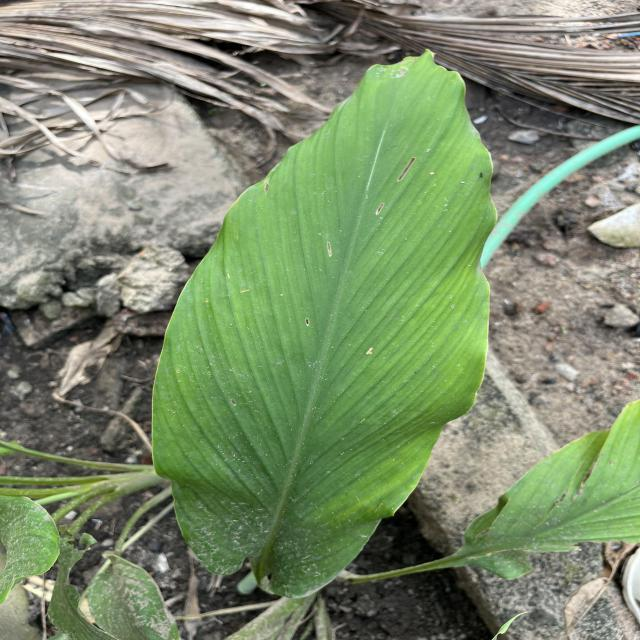Curcuma longa: (149, 46, 502, 604)
